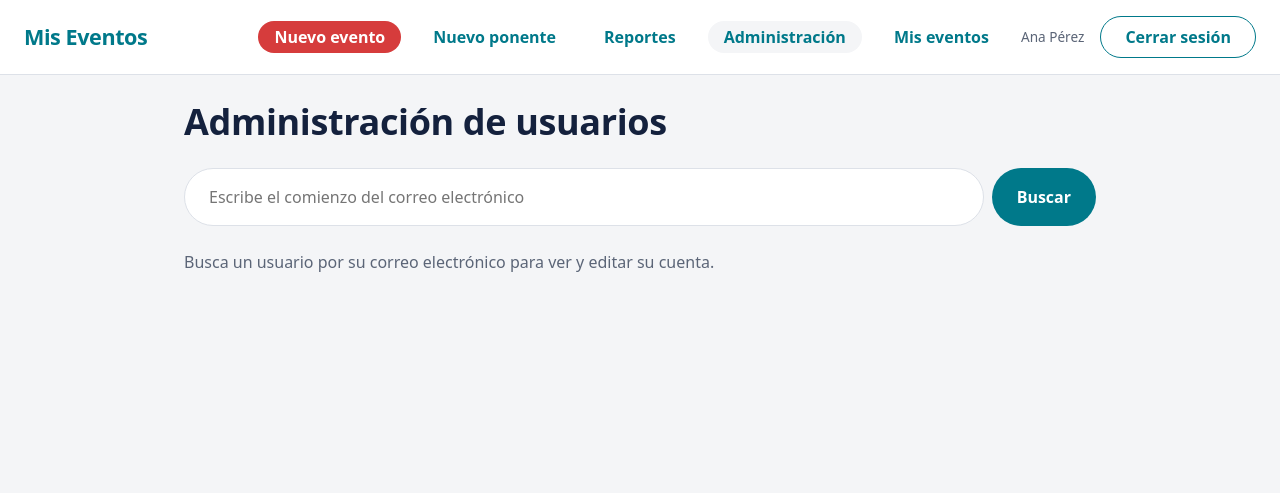
Test case: AdminUsersPage search › returns to the first page when the admin starts a new search
Type "b" into the search field named "Correo electrónico del usuario" at (584, 197), box [184,168,984,226]
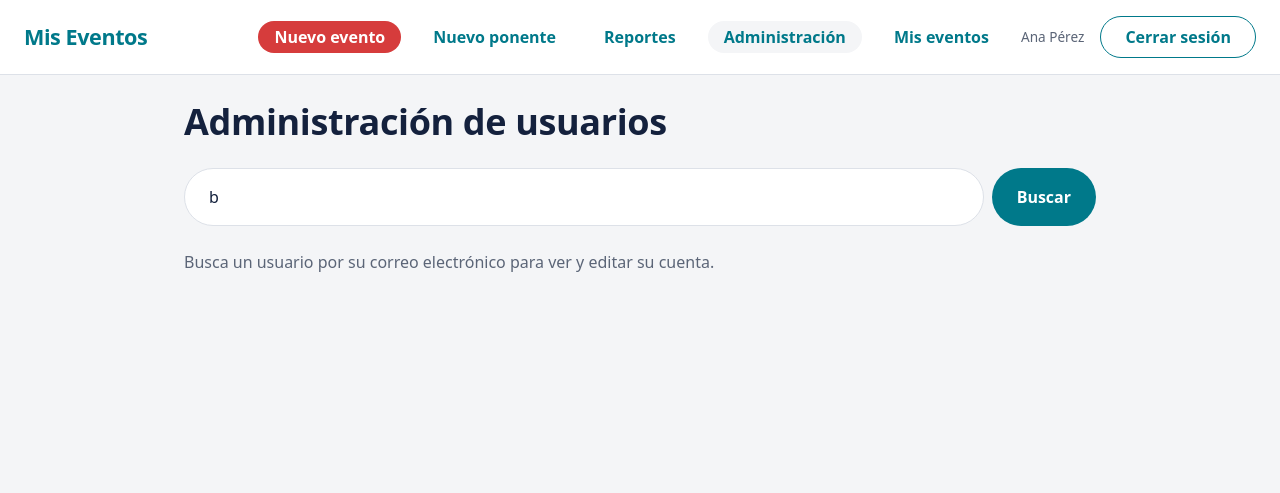
Click the button "Buscar" at (1044, 197), box [992,168,1096,226]
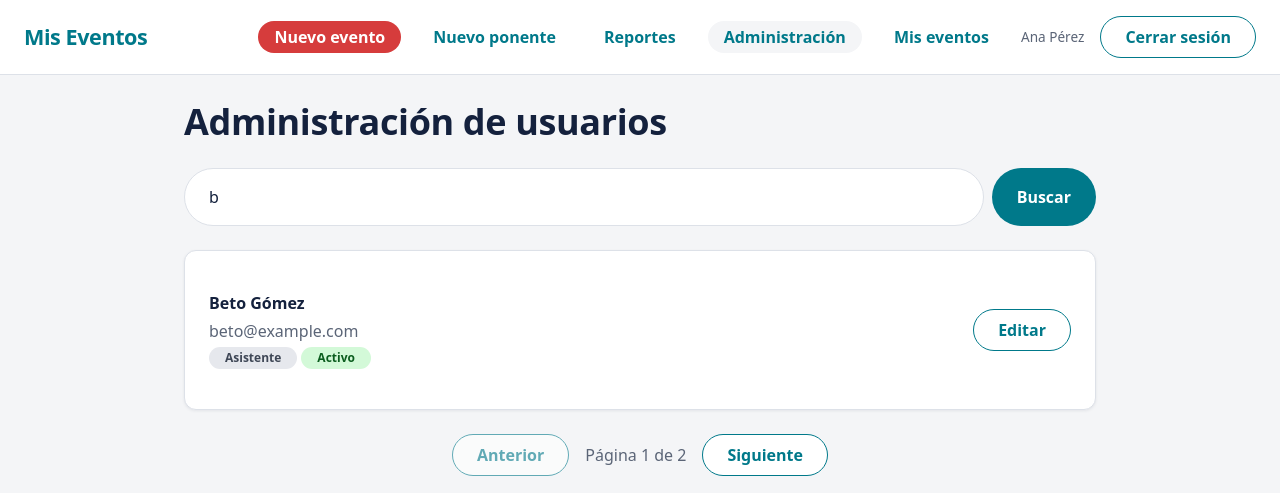
Check: the text "Beto Gómez" is shown, box [209,292,304,314]
Click the button "Siguiente" at (765, 455), box [702,434,828,476]
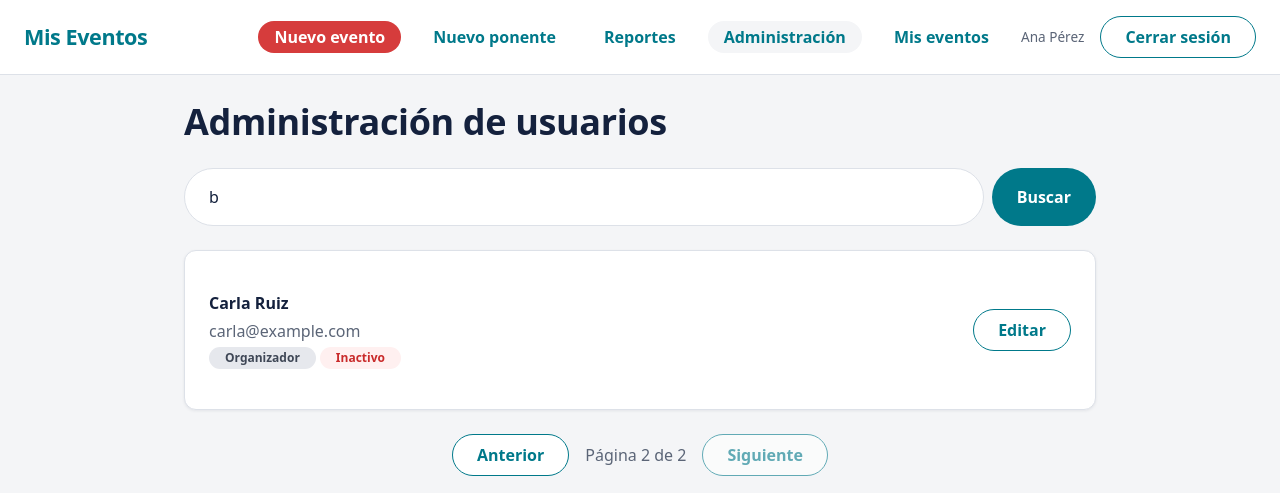
Check: the text "Carla Ruiz" is shown, box [209,292,289,314]
Replace the text in the search field named "Correo electrónico del usuario" with "c" at (584, 197), box [184,168,984,226]
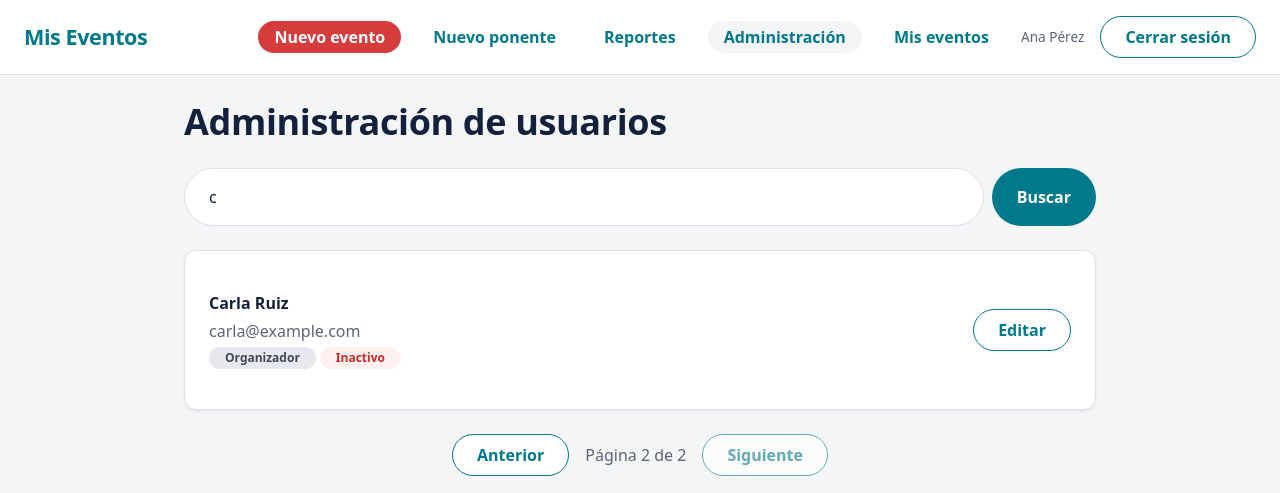
Click the button "Buscar" at (1044, 197), box [992,168,1096,226]
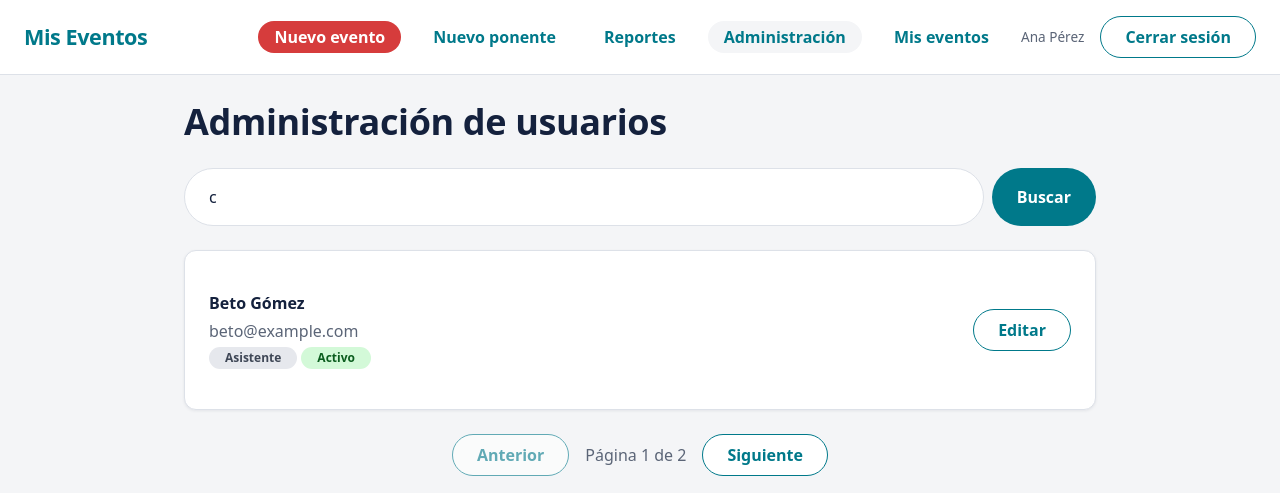
Check: the text "Beto Gómez" is shown, box [209,292,304,314]
